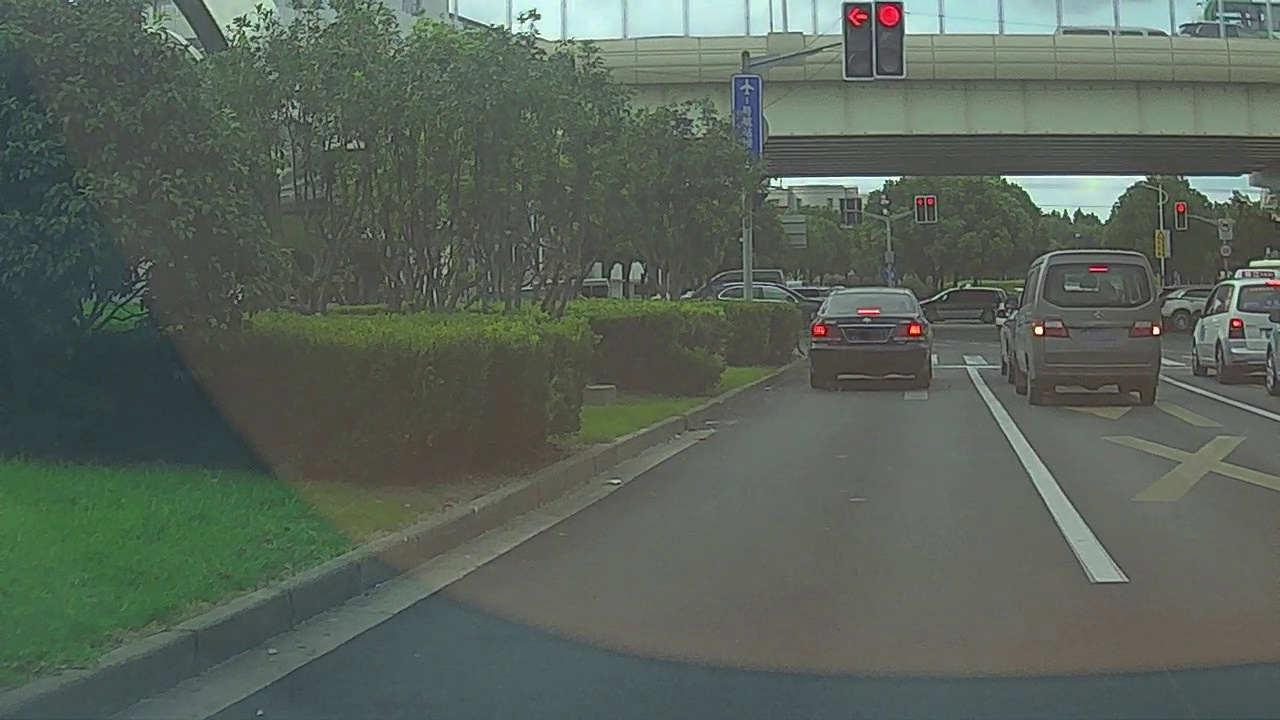traffic_light: (843, 2, 874, 78), (874, 1, 904, 76), (925, 197, 936, 223), (916, 197, 926, 222), (1176, 204, 1185, 229)
